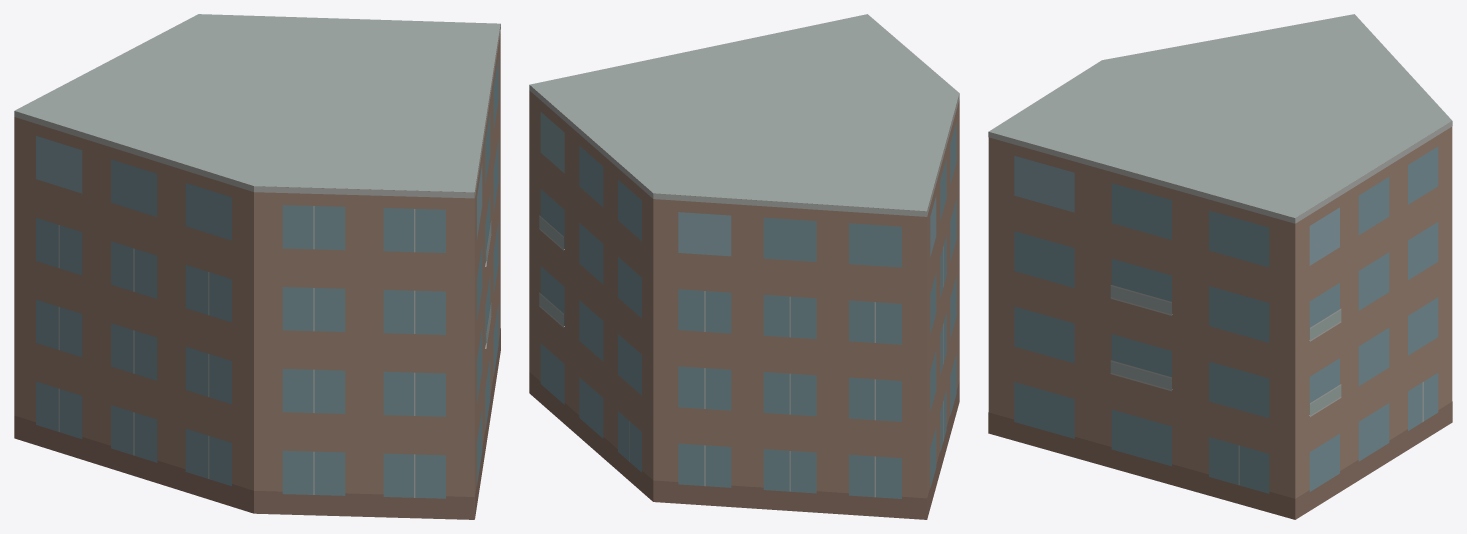
File: survey-upis-32855408.glb
The picture shows the model from 3 angles, left to right: view 1: azimuth 30°, elevation 25°; view 2: azimuth 150°, elevation 25°; view 3: azimuth 270°, elevation 25°; orthographic projection. The views are drawn at different scales.
Parts seen in each view (by area): view 1: survey-upis-32855408.tmp; view 2: survey-upis-32855408.tmp; view 3: survey-upis-32855408.tmp.
Part boxes in pixels (bbox=[...]): survey-upis-32855408.tmp: bbox=[14, 14, 500, 519]; survey-upis-32855408.tmp: bbox=[529, 14, 959, 519]; survey-upis-32855408.tmp: bbox=[988, 14, 1452, 519].
Size of the model in its own units: 19.17 by 13.2 by 18.41.
